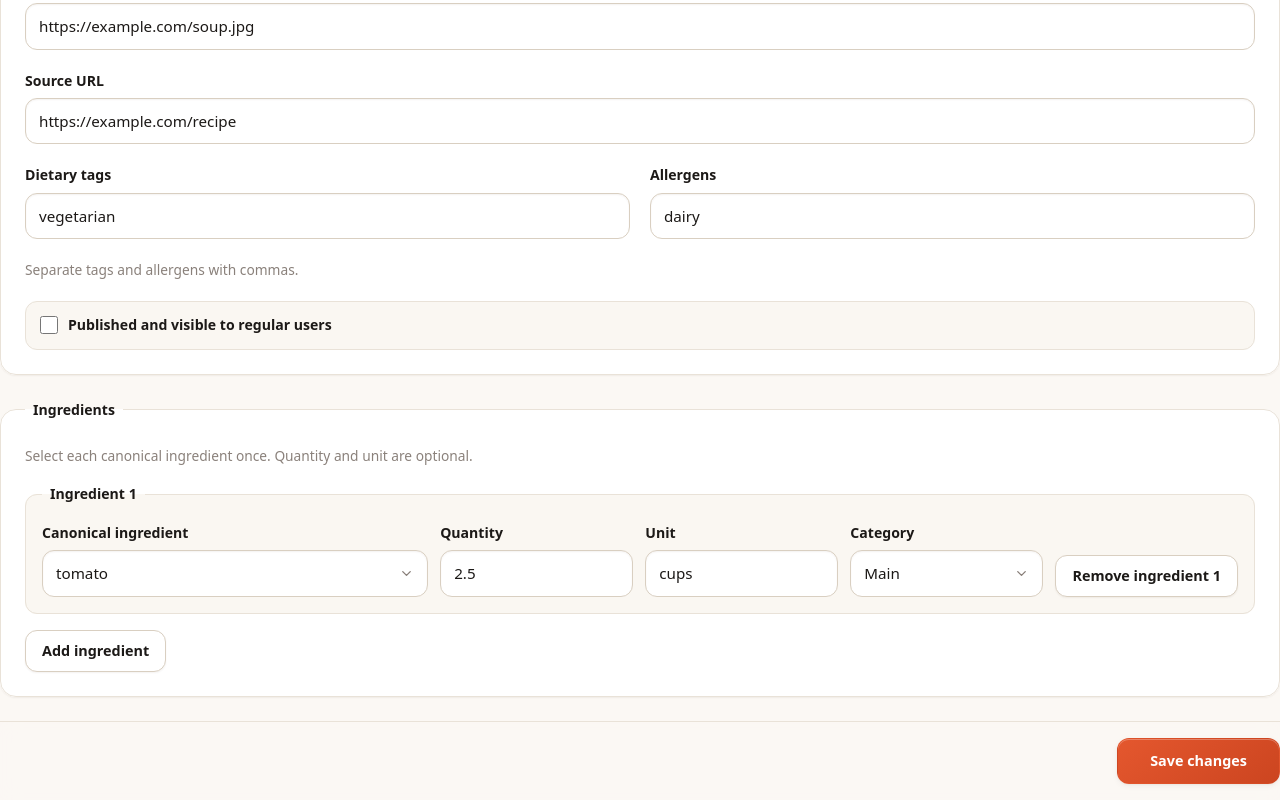
Test: RecipeForm › adds and removes ingredient rows
This screenshot has width=1280, height=800.
(page scrolled)
Click the button "Add ingredient" at (96, 651), box [25,630,166,672]
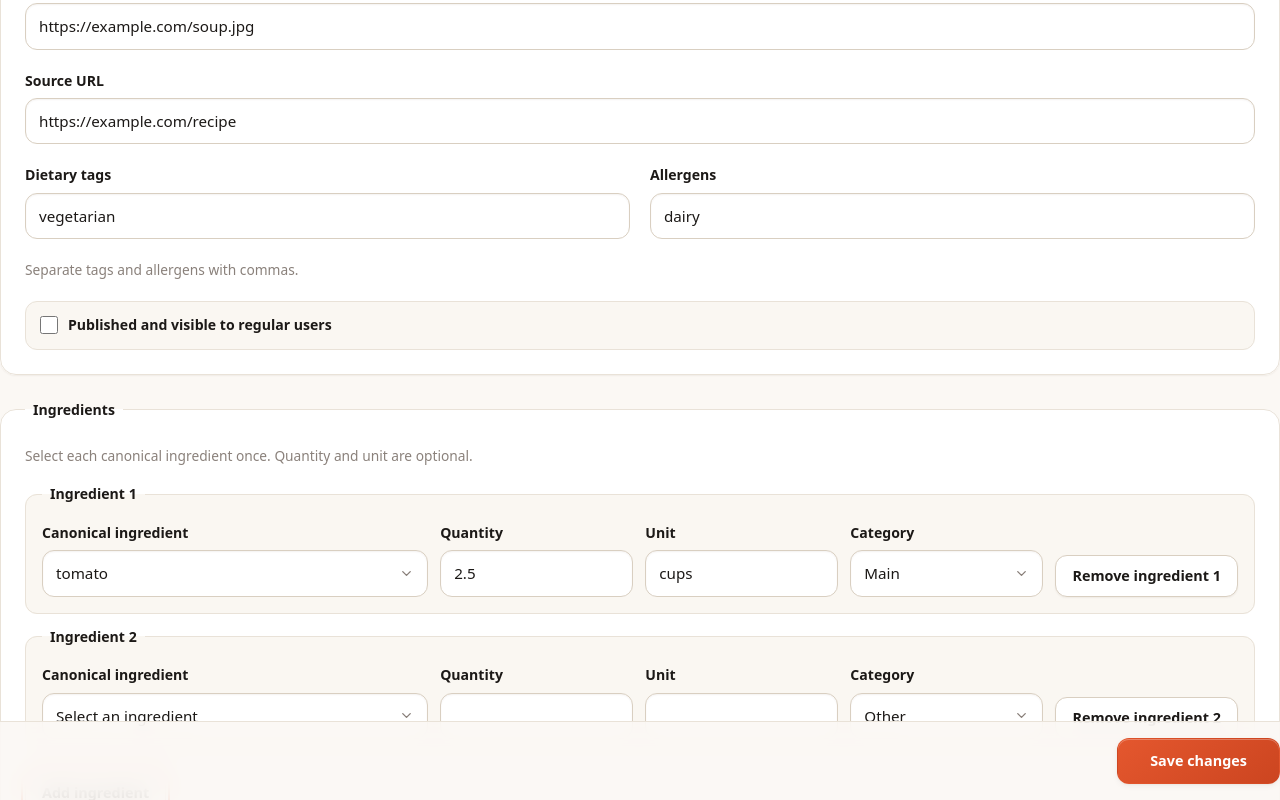
Expected: the element "Ingredient 2" is shown, [25,626,1255,756]
Click the button "Remove ingredient 2" at (1147, 718), box [1055,697,1238,739]
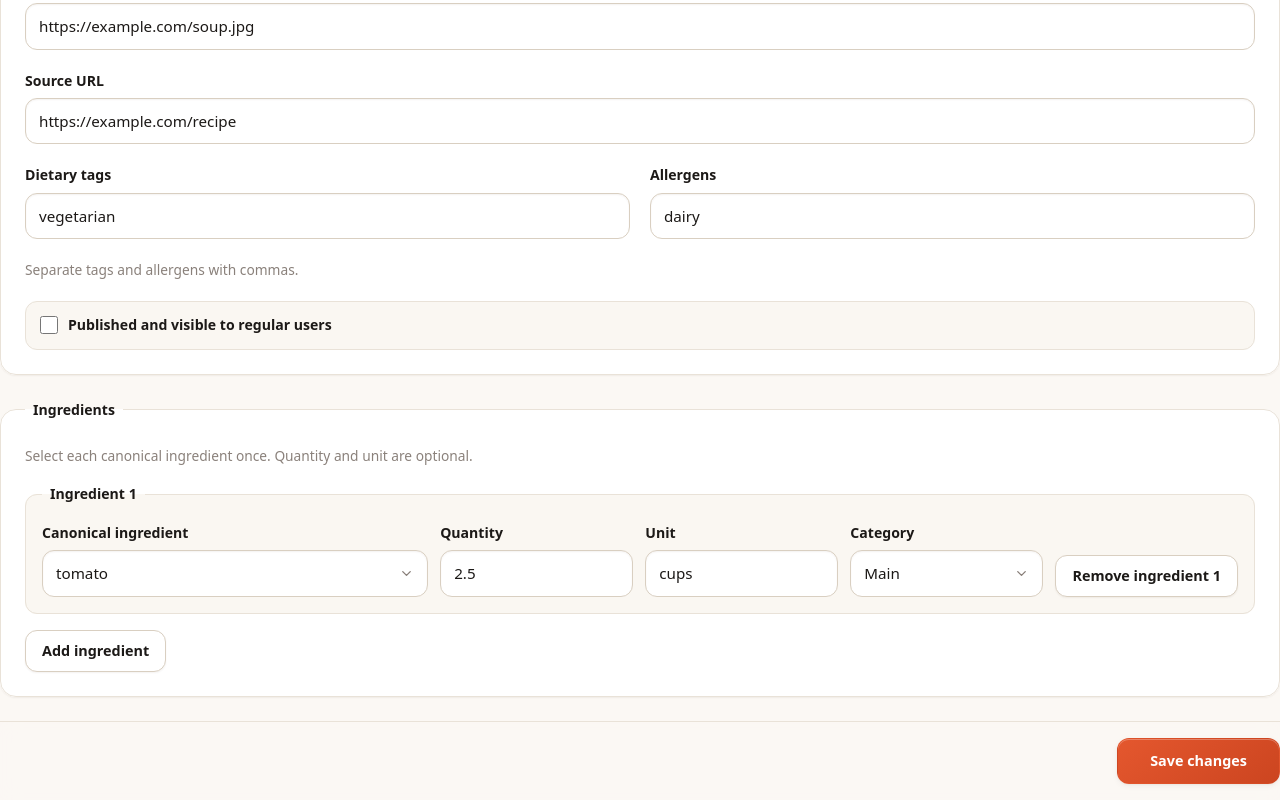
Expected: the text "Ingredient 2" is gone
